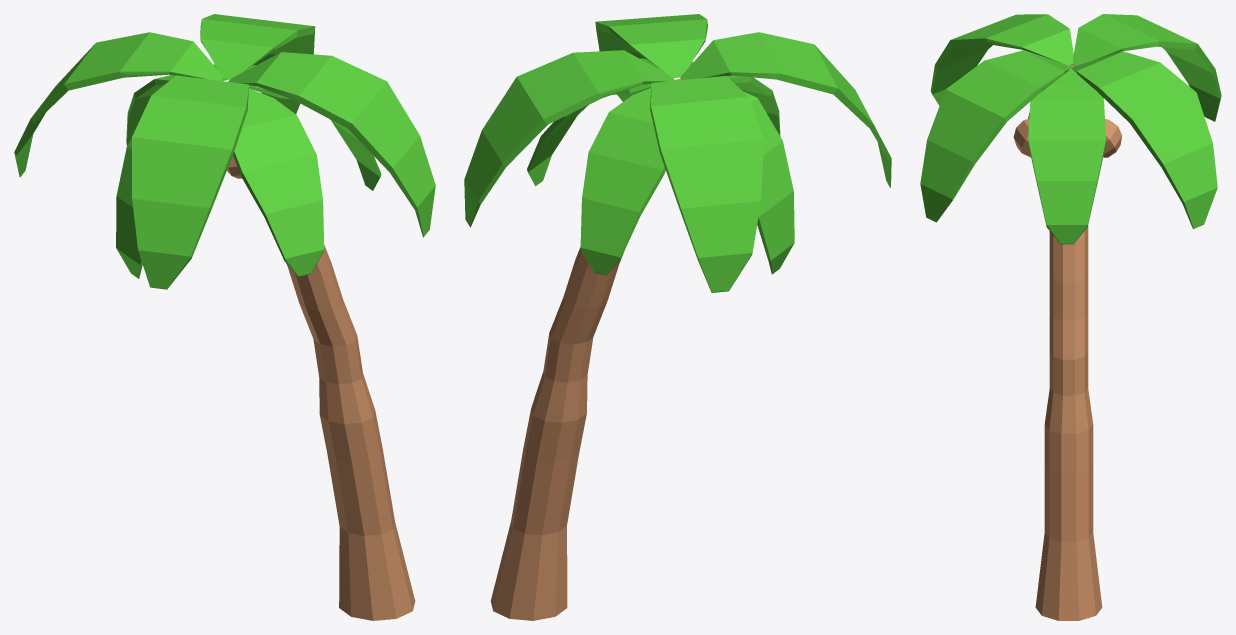
The model's file is Palmera1.fbx.
3 renders of one model, left to right at view 1: azimuth 30°, elevation 25°; view 2: azimuth 150°, elevation 25°; view 3: azimuth 270°, elevation 25°, orthographic. The views are drawn at different scales.
Visible parts, largest first — view 1: PALM4; view 2: PALM4; view 3: PALM4.
Part boxes in pixels (x1,y1,x2,y2): PALM4: [14, 14, 435, 620]; PALM4: [464, 14, 891, 620]; PALM4: [920, 14, 1221, 620].
Bounding box in the file's own units: 2.22 × 3.69 × 2.03.
